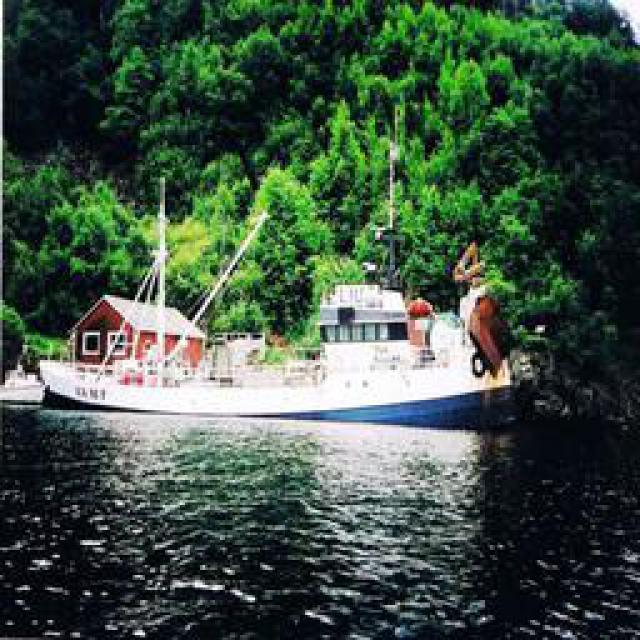Ship: (38, 226, 573, 426)
